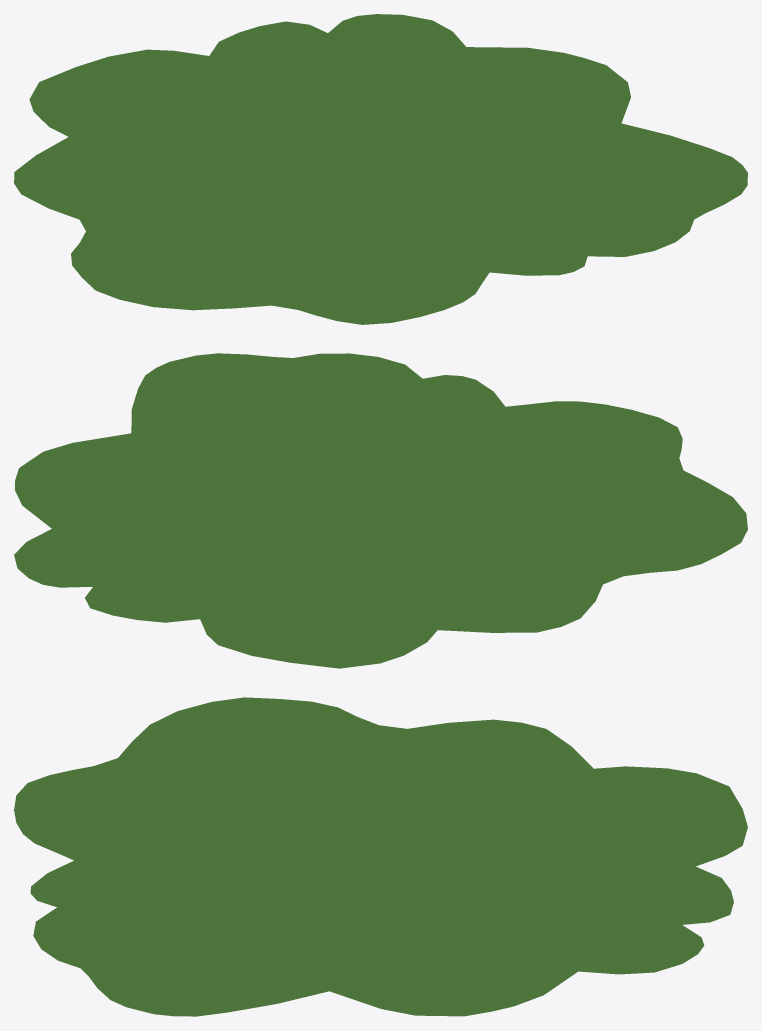
Rendered from plant_water_lily_pad_A.fbx.
3 renders of one model, top to bottom at view 1: azimuth 30°, elevation 25°; view 2: azimuth 150°, elevation 25°; view 3: azimuth 270°, elevation 25°, orthographic. The views are drawn at different scales.
Visible parts, largest first — view 1: plant_water_lily_pad_A; view 2: plant_water_lily_pad_A; view 3: plant_water_lily_pad_A.
Boxes of the visible parts, bbox=[...] form: plant_water_lily_pad_A: bbox=[14, 14, 747, 324]; plant_water_lily_pad_A: bbox=[14, 353, 747, 668]; plant_water_lily_pad_A: bbox=[14, 697, 747, 1016].
Size of the model in its own units: 40.71 by 7.63e-06 by 39.58.
